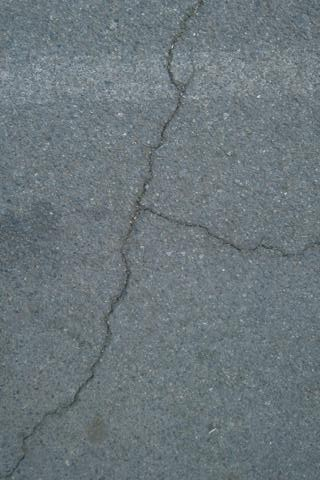A: (139, 2, 320, 261), (8, 205, 138, 480)
